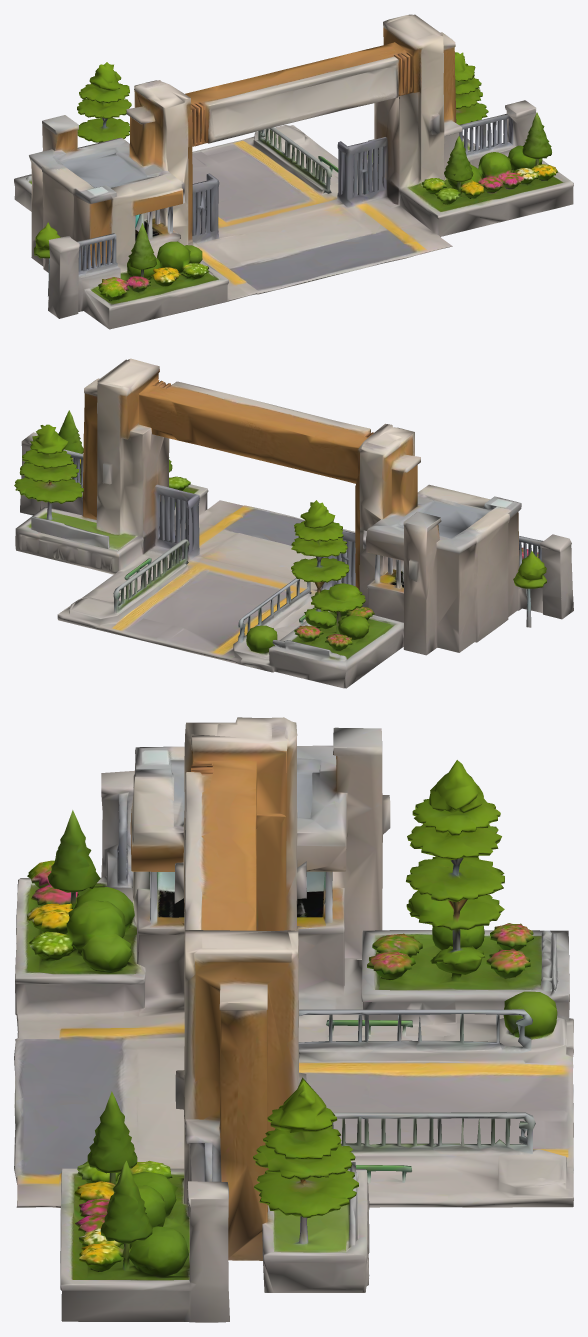
The model's file is gate.glb.
3 views of the same model, one above another, from view 1: azimuth 30°, elevation 25°; view 2: azimuth 150°, elevation 25°; view 3: azimuth 270°, elevation 25° (orthographic). The views are drawn at different scales.
Parts seen in each view (by area): view 1: tripo_node_894a1902-5ed0-4f70-950d-23b57ed07733; view 2: tripo_node_894a1902-5ed0-4f70-950d-23b57ed07733; view 3: tripo_node_894a1902-5ed0-4f70-950d-23b57ed07733.
Part boxes in pixels (bbox=[...]): tripo_node_894a1902-5ed0-4f70-950d-23b57ed07733: bbox=[14, 14, 573, 329]; tripo_node_894a1902-5ed0-4f70-950d-23b57ed07733: bbox=[14, 358, 573, 688]; tripo_node_894a1902-5ed0-4f70-950d-23b57ed07733: bbox=[14, 717, 573, 1322].
Bounding box in the file's own units: 1 × 0.3138 × 0.5493.
Materials: 1 (1 with a texture image).
